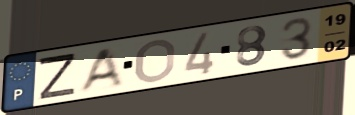3: (278, 15, 315, 62)
4: (181, 29, 217, 76)
8: (235, 24, 269, 68)
A: (75, 45, 126, 96)
O: (132, 37, 178, 85)
Z: (36, 51, 79, 101)
